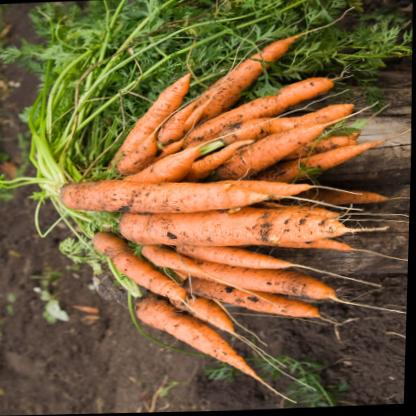carrot: (119, 289, 302, 414), (108, 203, 392, 254), (51, 168, 338, 216)
